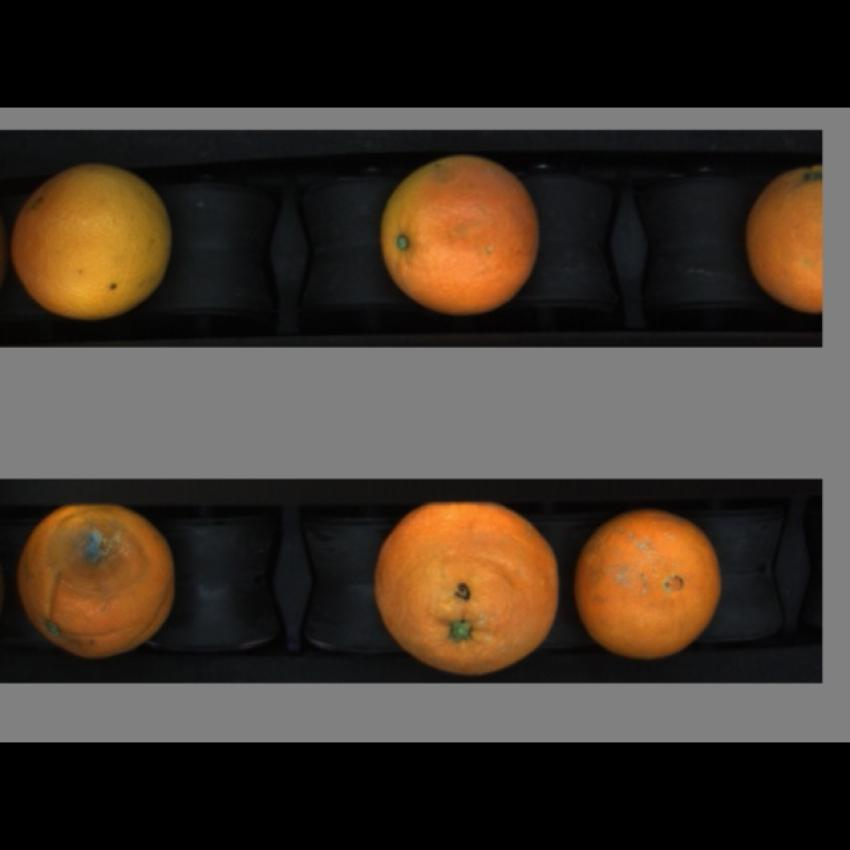Buen estado: (379, 151, 543, 311), (10, 159, 177, 314), (740, 158, 825, 312)
Mal estado: (373, 494, 562, 670), (16, 498, 176, 660), (575, 500, 724, 658)
